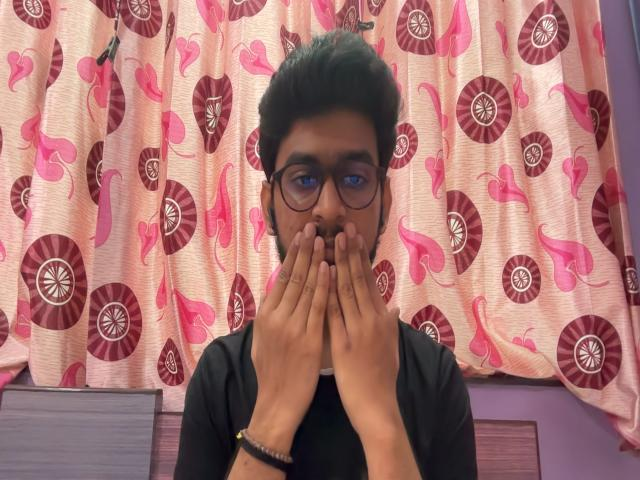Thanks: (249, 219, 407, 424)
